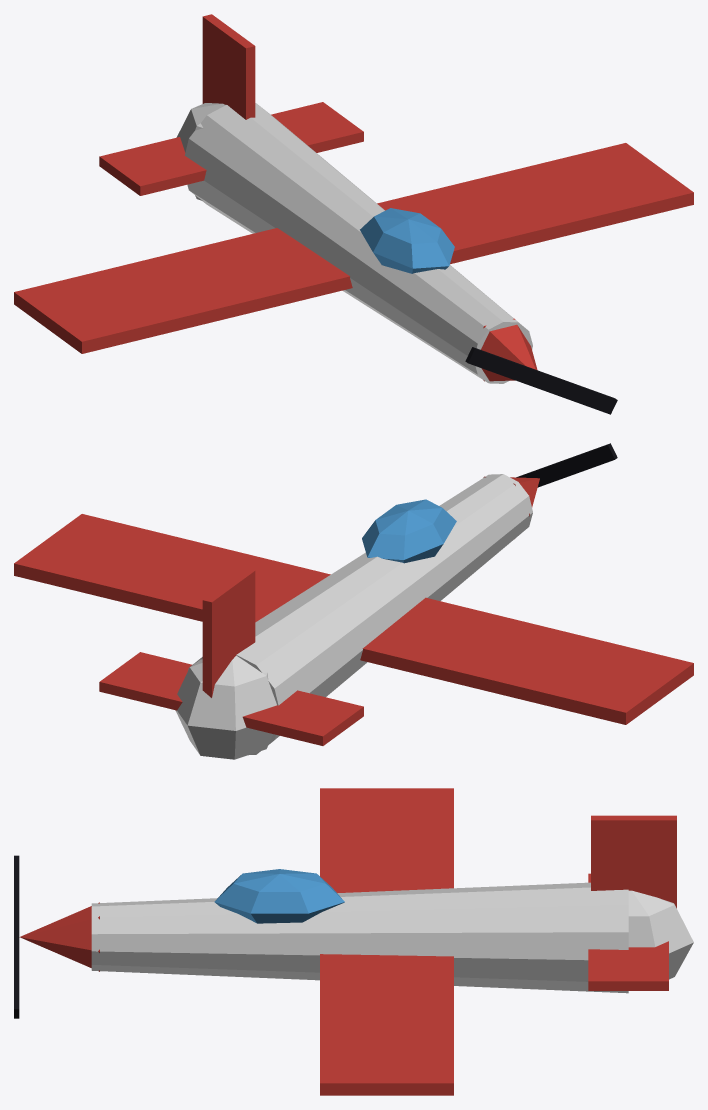
The picture shows the model from 3 angles, top to bottom: view 1: azimuth 30°, elevation 25°; view 2: azimuth 150°, elevation 25°; view 3: azimuth 270°, elevation 25°; orthographic projection.
Visible parts, largest first — view 1: plane; view 2: plane; view 3: plane.
Part boxes in pixels (box(x1,y1,x2,y2)): plane: box(14, 14, 693, 414); plane: box(14, 443, 693, 759); plane: box(14, 788, 693, 1095).
Size of the model in its own units: 2.6 by 0.7 by 2.53.
